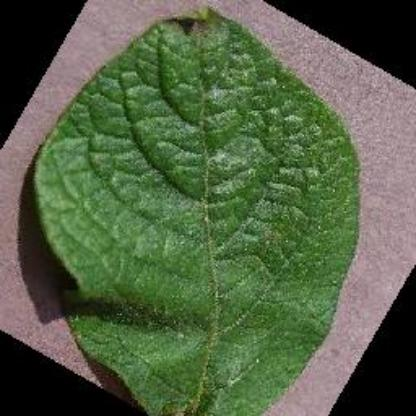Healthy-plant: (32, 8, 362, 416)
